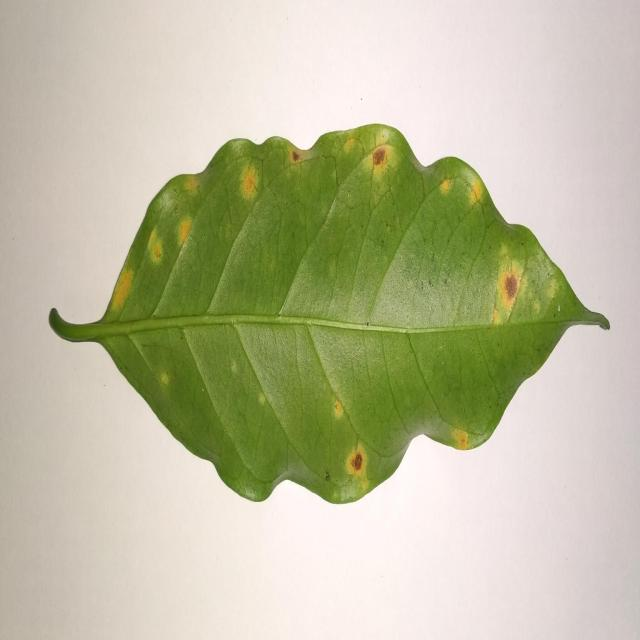Enfermedad-Roya: (47, 124, 611, 507)
